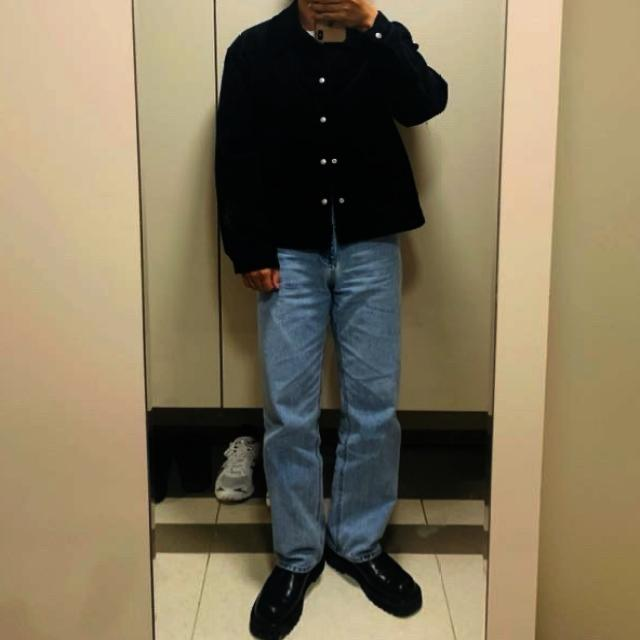denimpants: (256, 230, 400, 578)
jacket: (214, 0, 444, 272)
